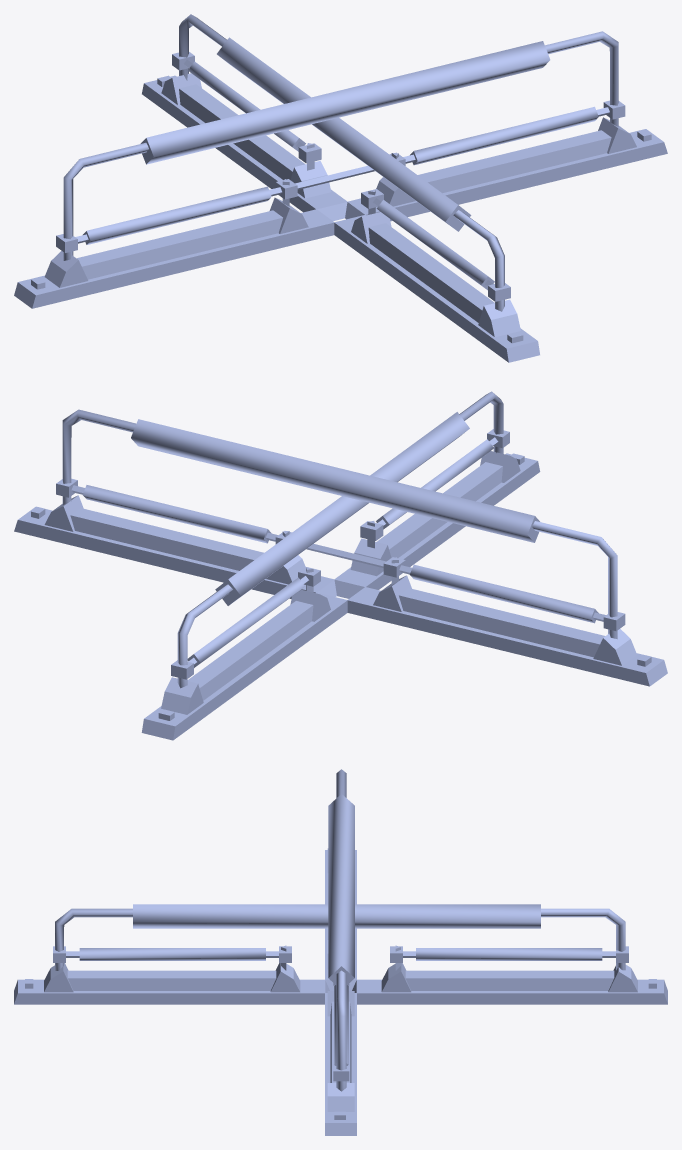
Rendered from utilityconnecter001.fbx.
3 renders of one model, top to bottom at view 1: azimuth 30°, elevation 25°; view 2: azimuth 150°, elevation 25°; view 3: azimuth 270°, elevation 25°, orthographic. The views are drawn at different scales.
Visible parts, largest first — view 1: utilityconnecter001_ref; view 2: utilityconnecter001_ref; view 3: utilityconnecter001_ref.
Boxes of the visible parts, x1,y1,x2,y2 form: utilityconnecter001_ref: (14, 14, 667, 362); utilityconnecter001_ref: (14, 391, 667, 740); utilityconnecter001_ref: (14, 769, 667, 1135).
Size of the model in its own units: 6051 by 1220 by 6051.
